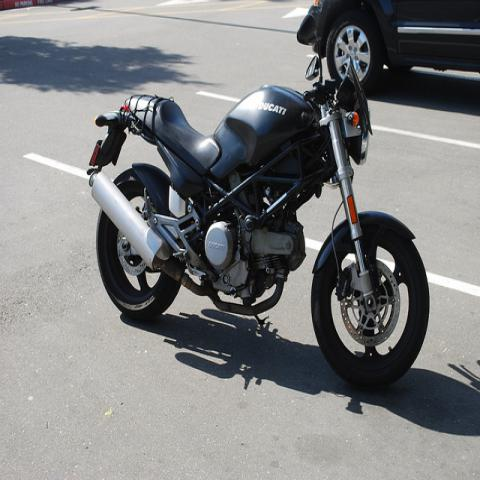car: (298, 1, 480, 87)
motorcycle: (82, 4, 437, 395)
